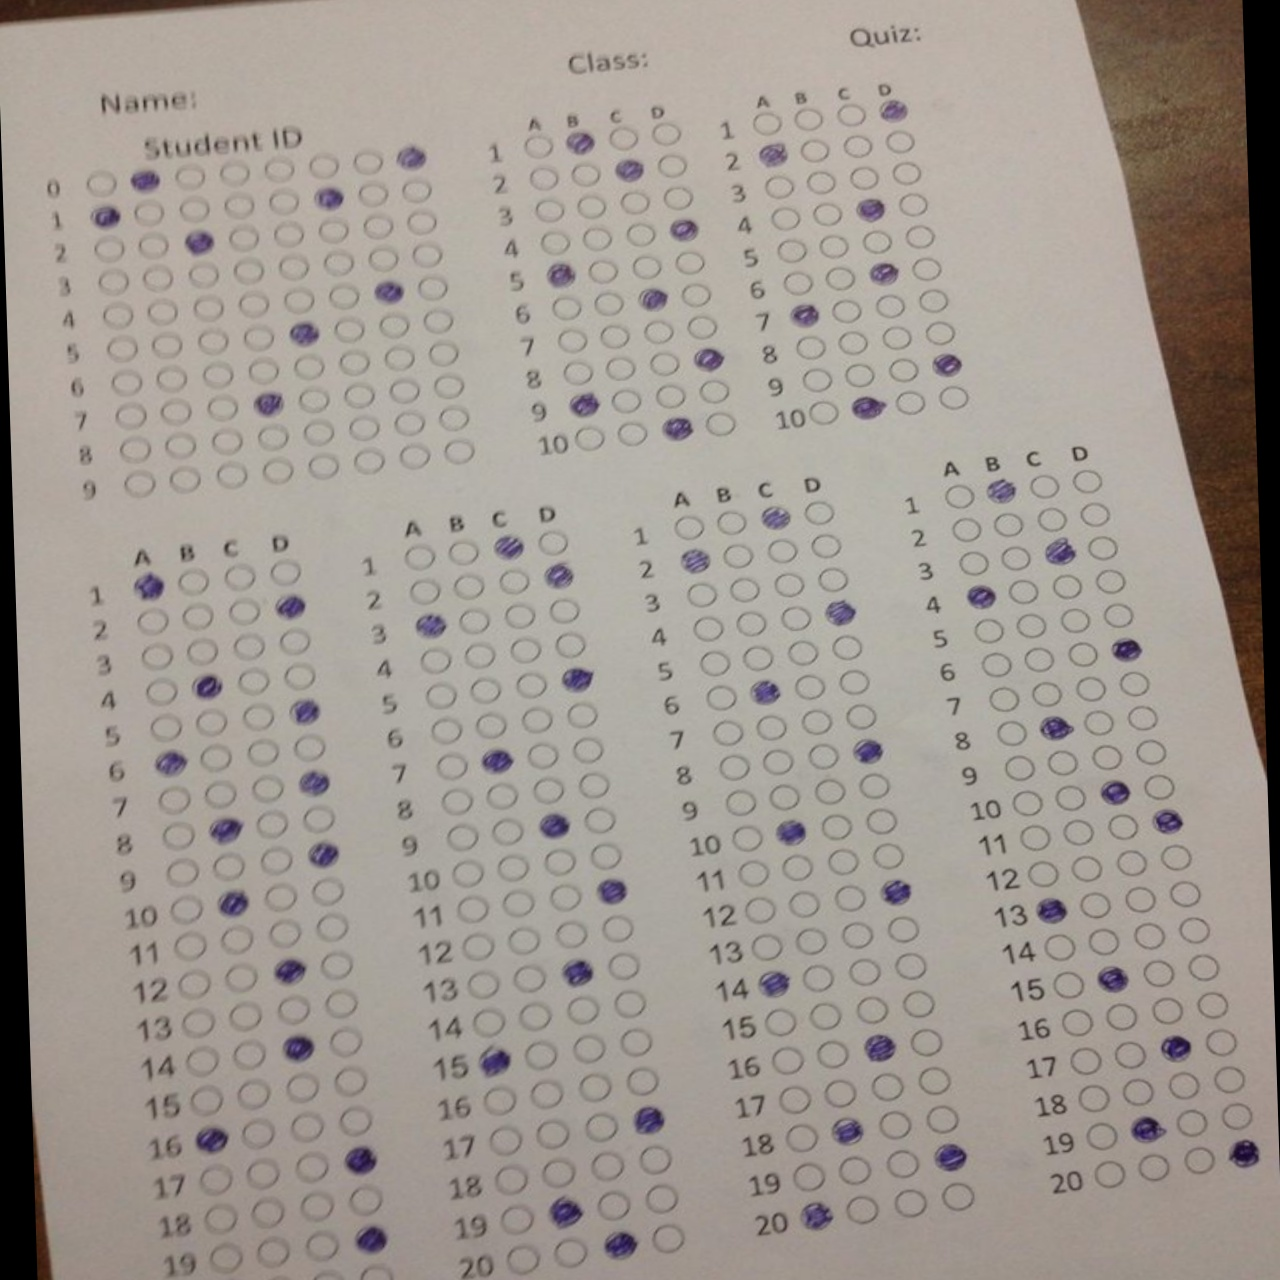not-c: (779, 1121, 821, 1155), (651, 1221, 689, 1257), (320, 988, 361, 1021), (635, 1143, 676, 1175), (881, 1148, 922, 1179), (888, 1187, 930, 1219), (285, 1073, 322, 1107), (1201, 1026, 1239, 1060), (248, 774, 288, 805), (876, 1110, 915, 1142), (311, 913, 352, 944), (288, 1112, 329, 1143), (292, 1155, 333, 1185), (246, 1158, 282, 1192), (906, 1027, 945, 1058), (451, 896, 491, 926), (642, 1183, 682, 1213), (252, 1238, 293, 1267), (918, 1065, 953, 1099), (338, 1108, 374, 1141), (571, 1032, 607, 1064), (836, 1155, 872, 1187), (531, 775, 568, 806), (532, 1118, 570, 1150), (588, 1150, 626, 1182), (1039, 931, 1076, 962), (166, 892, 205, 922), (316, 952, 355, 982), (347, 1189, 386, 1219), (496, 1204, 535, 1234), (1194, 990, 1233, 1021), (195, 1167, 234, 1197), (1068, 1043, 1102, 1077), (234, 1081, 275, 1109), (600, 915, 636, 947), (524, 1041, 560, 1073), (833, 883, 870, 914), (808, 1000, 844, 1032), (176, 968, 213, 999), (183, 1087, 220, 1117), (885, 917, 922, 947), (1182, 953, 1219, 983), (751, 714, 790, 743), (862, 808, 900, 837), (775, 1085, 813, 1115), (901, 222, 940, 251), (442, 823, 482, 851), (563, 994, 602, 1022), (924, 1105, 964, 1133), (300, 1189, 334, 1221), (551, 629, 586, 661), (750, 932, 785, 964), (1010, 788, 1046, 819), (224, 964, 260, 994), (328, 1030, 365, 1061), (578, 769, 614, 799), (825, 847, 862, 878), (1157, 844, 1193, 874), (1111, 1040, 1148, 1070), (407, 243, 448, 270), (700, 683, 741, 710), (309, 878, 347, 907), (449, 859, 486, 888), (847, 956, 885, 986), (1048, 971, 1085, 1000), (83, 169, 122, 197), (156, 784, 195, 812), (176, 1008, 215, 1036), (229, 1043, 267, 1071), (299, 1235, 341, 1261), (515, 1003, 553, 1032), (1212, 1065, 1251, 1094), (483, 1085, 516, 1118), (267, 918, 301, 949), (334, 1065, 366, 1099), (941, 1182, 975, 1213), (437, 789, 477, 816), (706, 719, 745, 745), (545, 595, 580, 626), (515, 673, 550, 703), (461, 933, 496, 964), (506, 1242, 542, 1273), (788, 891, 823, 921), (1017, 823, 1053, 853), (1085, 1122, 1121, 1152), (209, 428, 245, 457), (502, 602, 538, 632), (467, 678, 503, 707), (583, 1112, 619, 1142), (716, 753, 753, 782), (839, 922, 876, 952), (900, 990, 937, 1020), (821, 1080, 857, 1109), (1078, 501, 1115, 530), (1133, 736, 1170, 765), (1085, 928, 1122, 958), (324, 284, 361, 312), (218, 928, 256, 956), (602, 952, 640, 980), (558, 358, 595, 386), (992, 719, 1029, 747), (1089, 743, 1126, 771), (430, 753, 469, 779), (612, 992, 651, 1019), (1164, 1073, 1203, 1099), (352, 149, 386, 179), (132, 199, 166, 230), (203, 778, 237, 809), (173, 930, 207, 960), (526, 741, 560, 771), (508, 928, 542, 959), (619, 1027, 653, 1057), (530, 1081, 564, 1111), (540, 1157, 574, 1187), (937, 381, 971, 411), (1032, 679, 1065, 709), (1054, 783, 1088, 813), (1068, 855, 1102, 885), (1122, 1077, 1156, 1108), (501, 888, 536, 918), (492, 1167, 527, 1197), (1220, 1101, 1255, 1130), (164, 431, 200, 459), (212, 853, 248, 881), (584, 806, 620, 835), (547, 884, 584, 912), (472, 1009, 509, 1037), (770, 571, 806, 599), (762, 1009, 798, 1037), (109, 372, 147, 399), (430, 372, 468, 399), (121, 471, 158, 498), (182, 1048, 219, 1075), (463, 642, 501, 669), (570, 738, 607, 765), (490, 819, 527, 846), (576, 1073, 613, 1099), (163, 821, 196, 851), (733, 824, 765, 855), (132, 610, 171, 635), (733, 611, 771, 636), (891, 390, 930, 416), (206, 396, 240, 425), (256, 423, 290, 452), (241, 1118, 275, 1148), (248, 1198, 282, 1227), (554, 922, 588, 952), (554, 1237, 588, 1266), (803, 499, 837, 529), (855, 998, 888, 1027), (791, 1164, 825, 1193), (1000, 544, 1034, 573), (1123, 886, 1157, 915), (1078, 1084, 1112, 1114), (238, 291, 273, 319), (304, 418, 339, 447), (270, 557, 305, 585), (301, 806, 336, 835), (164, 856, 199, 884), (275, 995, 311, 1023), (472, 712, 508, 740), (723, 790, 758, 818), (871, 846, 906, 874), (846, 1196, 881, 1224), (881, 129, 917, 157), (888, 355, 924, 383), (1130, 922, 1165, 951), (1057, 1008, 1092, 1036), (116, 440, 156, 464), (104, 335, 141, 362), (335, 349, 372, 376), (259, 457, 295, 484), (138, 644, 175, 670), (184, 638, 220, 665), (240, 704, 277, 731), (227, 1005, 264, 1032), (519, 707, 556, 734), (539, 847, 576, 874), (464, 971, 501, 998), (595, 1191, 632, 1218), (583, 226, 619, 253), (678, 282, 714, 309), (893, 953, 930, 980), (816, 1041, 852, 1068), (815, 234, 851, 261), (1116, 670, 1152, 697), (1076, 893, 1112, 920), (1141, 960, 1177, 987), (218, 162, 256, 188), (90, 237, 128, 263), (157, 400, 195, 425), (1069, 469, 1107, 495), (772, 1044, 804, 1075), (265, 884, 298, 913), (1169, 879, 1201, 908), (247, 356, 281, 384), (343, 381, 377, 409), (234, 633, 268, 661), (195, 708, 229, 736), (257, 812, 291, 840), (588, 840, 622, 869), (625, 1068, 659, 1096), (618, 190, 652, 218), (924, 321, 958, 349), (113, 406, 151, 430), (207, 1246, 243, 1273), (485, 1128, 520, 1155), (649, 121, 685, 148), (654, 384, 689, 411), (765, 783, 801, 810), (779, 856, 815, 883), (869, 1074, 904, 1101), (956, 550, 992, 577), (978, 651, 1013, 678), (1103, 1003, 1138, 1030), (1137, 1155, 1172, 1182), (222, 196, 258, 222), (137, 233, 169, 263), (641, 318, 673, 347), (840, 668, 872, 697), (845, 702, 877, 731), (762, 747, 794, 776), (860, 770, 892, 799), (745, 896, 777, 925), (1068, 640, 1099, 669), (1062, 818, 1094, 847), (1178, 917, 1210, 946), (143, 680, 181, 704), (444, 542, 482, 566), (420, 646, 452, 674), (674, 250, 707, 278), (590, 291, 622, 319), (808, 535, 845, 559), (835, 101, 867, 129), (797, 369, 835, 394), (1058, 607, 1091, 635), (1081, 712, 1118, 736), (1115, 851, 1148, 879), (277, 254, 311, 281), (321, 252, 355, 279), (290, 354, 324, 381), (438, 406, 472, 433), (399, 443, 433, 470), (199, 745, 233, 772), (511, 965, 545, 992), (549, 294, 583, 321), (817, 567, 851, 594), (812, 779, 846, 806), (792, 105, 826, 132), (840, 134, 874, 161), (1143, 772, 1177, 799), (1153, 998, 1187, 1024), (304, 155, 339, 181), (139, 267, 175, 293), (241, 325, 277, 350), (608, 387, 644, 413), (777, 607, 812, 633), (785, 641, 821, 667), (748, 110, 783, 136), (803, 172, 838, 198), (767, 207, 805, 231), (811, 203, 846, 229), (774, 237, 809, 263), (1085, 537, 1121, 563), (246, 741, 282, 765), (985, 687, 1021, 712), (803, 708, 833, 737), (417, 275, 449, 304), (284, 663, 315, 692), (722, 543, 754, 571), (1014, 610, 1046, 638), (173, 164, 206, 191), (230, 597, 263, 624), (459, 608, 492, 635), (660, 185, 693, 212), (686, 313, 719, 340), (699, 651, 731, 678), (738, 862, 771, 888), (917, 287, 949, 314), (942, 482, 975, 509), (1039, 505, 1071, 532), (1176, 1110, 1208, 1137), (392, 411, 425, 437), (263, 847, 297, 873), (406, 580, 440, 606), (493, 856, 527, 881), (574, 427, 608, 452), (686, 584, 720, 610), (830, 635, 864, 661), (821, 816, 855, 842), (802, 966, 836, 992), (890, 162, 924, 188), (862, 230, 896, 256), (837, 329, 871, 355), (1094, 568, 1128, 594), (352, 450, 387, 475), (532, 197, 567, 222), (828, 298, 863, 322), (550, 328, 588, 350), (1186, 1145, 1216, 1175), (390, 377, 421, 406), (267, 189, 299, 216), (193, 297, 225, 324), (152, 332, 184, 359), (297, 388, 328, 415), (307, 452, 339, 479), (203, 1205, 234, 1232), (499, 568, 531, 595), (570, 162, 601, 189), (540, 229, 572, 256), (675, 515, 707, 542), (694, 617, 726, 644), (796, 930, 828, 956), (1126, 704, 1158, 731), (427, 719, 463, 742), (614, 423, 651, 447), (761, 173, 797, 197), (368, 247, 401, 273), (147, 300, 179, 326), (284, 287, 316, 313), (334, 318, 367, 343), (155, 368, 188, 394), (202, 363, 234, 389), (177, 570, 210, 595), (224, 565, 257, 591), (181, 604, 213, 629), (486, 784, 519, 810), (765, 539, 798, 565), (795, 674, 828, 700), (973, 618, 1006, 644), (1005, 756, 1037, 782), (186, 264, 220, 288), (215, 463, 248, 488), (280, 629, 314, 654), (237, 670, 271, 695), (149, 715, 183, 740), (535, 530, 568, 554), (806, 745, 840, 770), (949, 517, 983, 542), (992, 513, 1026, 538), (1092, 1163, 1126, 1187), (567, 702, 595, 731), (600, 325, 629, 353), (1107, 601, 1136, 629), (625, 222, 655, 248), (1048, 750, 1078, 777), (103, 306, 135, 332), (423, 308, 455, 334), (510, 639, 542, 665), (707, 410, 738, 436), (741, 645, 772, 670), (798, 139, 830, 165), (898, 191, 930, 217), (911, 257, 942, 282), (1028, 860, 1060, 886), (355, 186, 392, 209), (1006, 581, 1042, 604), (406, 212, 438, 237), (428, 340, 461, 365), (403, 546, 436, 571), (794, 335, 826, 360), (881, 327, 914, 352), (577, 196, 611, 219), (584, 259, 618, 282), (847, 166, 881, 190), (1027, 475, 1061, 498), (1111, 812, 1139, 840), (384, 343, 414, 370), (649, 352, 679, 379), (234, 258, 265, 284), (454, 574, 484, 600), (610, 128, 640, 154), (701, 380, 731, 406), (730, 578, 761, 604), (876, 294, 906, 320), (379, 316, 410, 341), (349, 415, 381, 440), (445, 442, 477, 467), (526, 168, 558, 192), (843, 363, 874, 388), (1075, 678, 1107, 702), (809, 402, 842, 425), (1051, 576, 1084, 599), (633, 254, 661, 281), (168, 470, 202, 492), (523, 132, 552, 158), (1024, 648, 1054, 674), (263, 159, 293, 184), (658, 154, 688, 178), (177, 200, 209, 224), (402, 181, 437, 202), (316, 222, 348, 245), (423, 685, 455, 708), (602, 358, 635, 380), (98, 272, 127, 298), (295, 736, 325, 761), (717, 512, 747, 537), (272, 225, 302, 248), (825, 268, 857, 291), (358, 1262, 397, 1280), (199, 331, 227, 355), (229, 229, 259, 251), (363, 217, 392, 240), (782, 271, 812, 292), (309, 1268, 346, 1280), (260, 1274, 299, 1280)
taken-c: (545, 1194, 584, 1230), (352, 1223, 392, 1257), (796, 1200, 837, 1233), (476, 1046, 515, 1080), (150, 748, 191, 779), (983, 476, 1024, 508), (1160, 1034, 1197, 1069), (558, 956, 595, 990), (1042, 535, 1080, 568), (930, 1141, 968, 1173), (535, 812, 576, 843), (304, 838, 341, 871), (285, 697, 324, 729), (206, 816, 245, 847), (537, 263, 580, 291), (860, 1033, 897, 1065), (393, 142, 430, 173), (828, 1116, 865, 1148), (129, 572, 168, 602), (1092, 965, 1132, 994), (1228, 1137, 1264, 1170), (601, 1231, 638, 1262), (631, 1104, 666, 1136), (1037, 712, 1073, 743), (280, 1033, 316, 1063), (193, 1124, 230, 1155), (343, 1144, 380, 1175), (593, 876, 629, 906), (847, 736, 885, 765), (1148, 806, 1185, 836), (1130, 1115, 1164, 1146), (273, 592, 308, 622), (189, 670, 224, 701), (297, 769, 332, 799), (413, 612, 449, 641), (822, 600, 858, 629), (772, 819, 809, 849), (930, 352, 966, 381), (753, 139, 790, 168), (879, 878, 913, 908), (312, 185, 347, 215), (479, 748, 515, 777), (1112, 634, 1148, 663), (756, 971, 792, 999), (610, 156, 646, 184), (1032, 896, 1068, 924), (125, 168, 163, 195), (181, 227, 215, 257), (273, 958, 307, 987), (542, 563, 576, 592), (217, 888, 252, 917), (491, 535, 527, 561), (678, 549, 714, 576), (561, 129, 598, 156), (961, 586, 998, 613), (748, 678, 782, 706), (636, 287, 670, 315), (880, 97, 914, 125), (372, 279, 407, 306), (856, 195, 891, 222), (660, 416, 696, 442), (568, 392, 602, 418), (287, 321, 322, 347), (251, 392, 286, 417), (866, 259, 901, 285), (88, 204, 121, 231), (561, 667, 595, 693), (667, 216, 699, 243), (851, 395, 887, 418), (760, 506, 792, 532), (693, 346, 726, 372), (788, 305, 821, 331), (1101, 781, 1133, 805)
